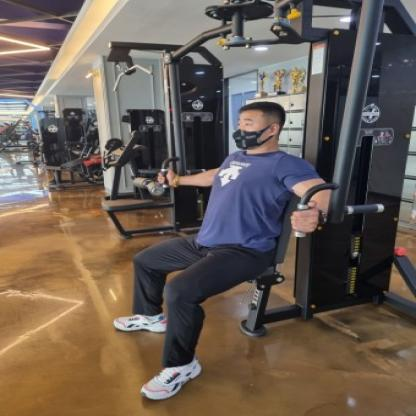chest fly machine: (82, 0, 416, 416)
